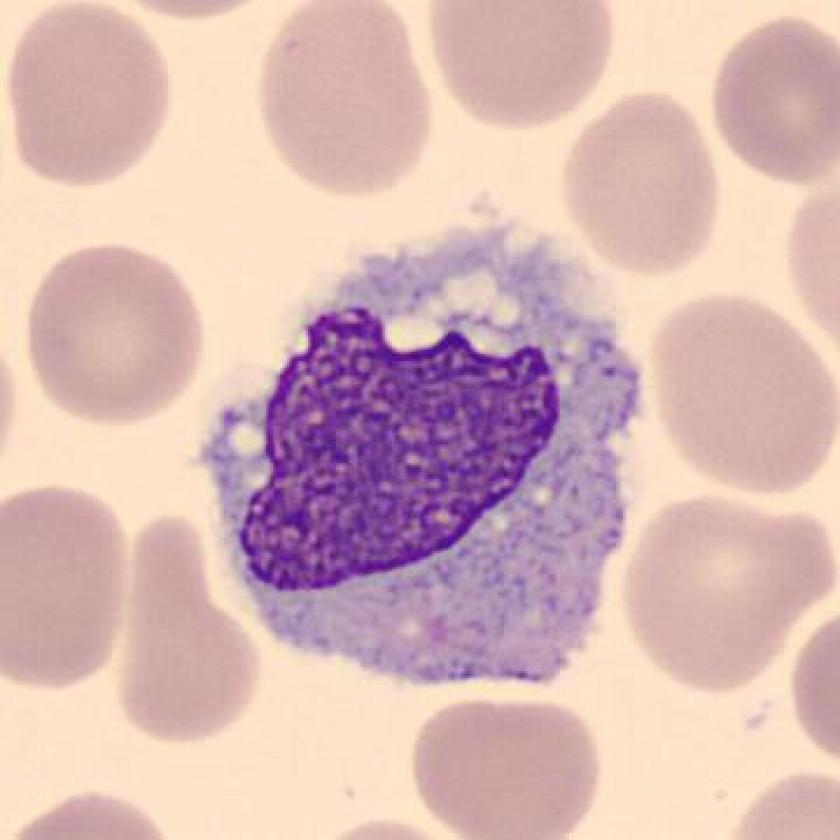monocyte: (174, 196, 666, 703)
